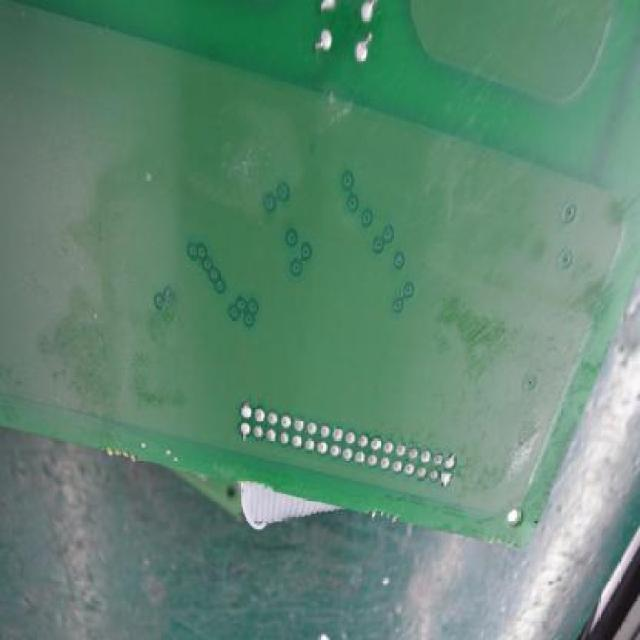Soldering bridge: (355, 31, 373, 64), (315, 27, 333, 53), (234, 422, 252, 440), (238, 400, 252, 418), (439, 473, 452, 490), (444, 454, 458, 468)
